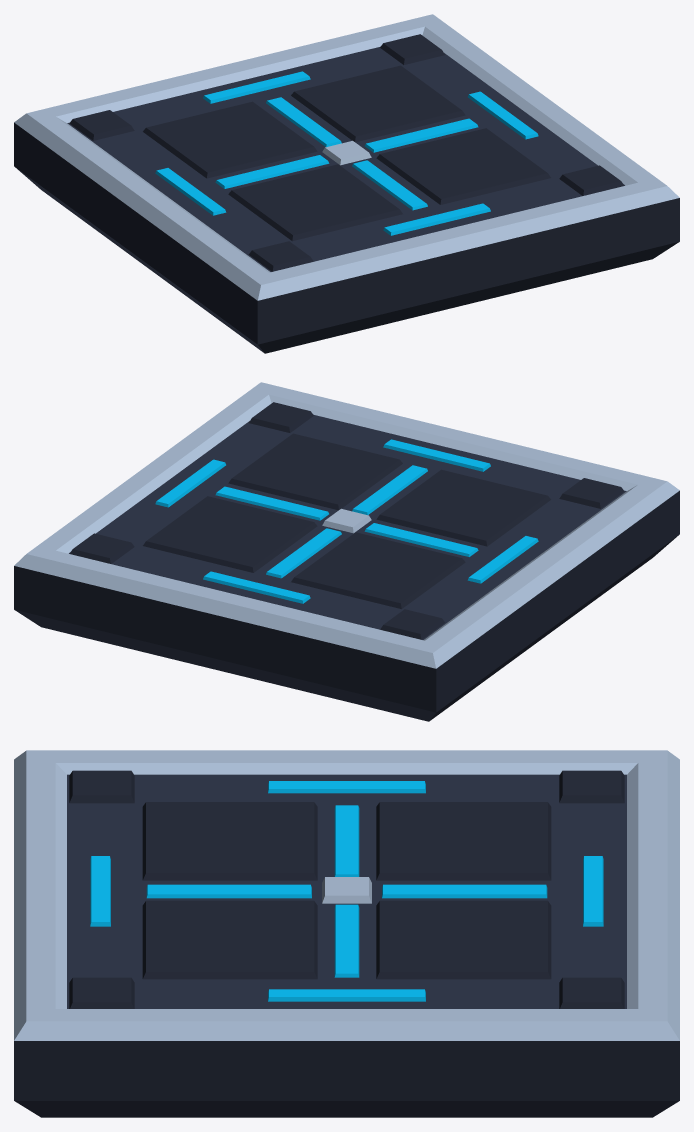
File: SM_ArenaTile_01_SafeNormal.obj
3 renders of one model, top to bottom at view 1: azimuth 30°, elevation 25°; view 2: azimuth 150°, elevation 25°; view 3: azimuth 270°, elevation 25°, orthographic. The views are drawn at different scales.
Parts seen in each view (by area): view 1: SM_ArenaTile_01_SafeNormal__MAT_DarkNeutral, SM_ArenaTile_01_SafeNormal__MAT_LightTrim, SM_ArenaTile_01_SafeNormal__MAT_AltNeutral, SM_ArenaTile_01_SafeNormal__EMI_Cyan; view 2: SM_ArenaTile_01_SafeNormal__MAT_DarkNeutral, SM_ArenaTile_01_SafeNormal__MAT_LightTrim, SM_ArenaTile_01_SafeNormal__MAT_AltNeutral, SM_ArenaTile_01_SafeNormal__EMI_Cyan; view 3: SM_ArenaTile_01_SafeNormal__MAT_DarkNeutral, SM_ArenaTile_01_SafeNormal__MAT_LightTrim, SM_ArenaTile_01_SafeNormal__MAT_AltNeutral, SM_ArenaTile_01_SafeNormal__EMI_Cyan.
Part boxes in pixels (x1=…): SM_ArenaTile_01_SafeNormal__MAT_DarkNeutral: x1=14, y1=34, x2=679, y2=353; SM_ArenaTile_01_SafeNormal__MAT_LightTrim: x1=14, y1=14, x2=679, y2=300; SM_ArenaTile_01_SafeNormal__MAT_AltNeutral: x1=67, y1=46, x2=624, y2=271; SM_ArenaTile_01_SafeNormal__EMI_Cyan: x1=155, y1=71, x2=538, y2=235; SM_ArenaTile_01_SafeNormal__MAT_DarkNeutral: x1=14, y1=402, x2=679, y2=721; SM_ArenaTile_01_SafeNormal__MAT_LightTrim: x1=14, y1=382, x2=679, y2=668; SM_ArenaTile_01_SafeNormal__MAT_AltNeutral: x1=69, y1=414, x2=626, y2=639; SM_ArenaTile_01_SafeNormal__EMI_Cyan: x1=155, y1=439, x2=538, y2=603; SM_ArenaTile_01_SafeNormal__MAT_DarkNeutral: x1=14, y1=770, x2=679, y2=1117; SM_ArenaTile_01_SafeNormal__MAT_LightTrim: x1=14, y1=750, x2=679, y2=1040; SM_ArenaTile_01_SafeNormal__MAT_AltNeutral: x1=67, y1=774, x2=626, y2=1008; SM_ArenaTile_01_SafeNormal__EMI_Cyan: x1=90, y1=781, x2=603, y2=1001.
Size of the model in its own units: 11.8 by 2 by 11.8.
Materials: 4 (4 with a texture image).
